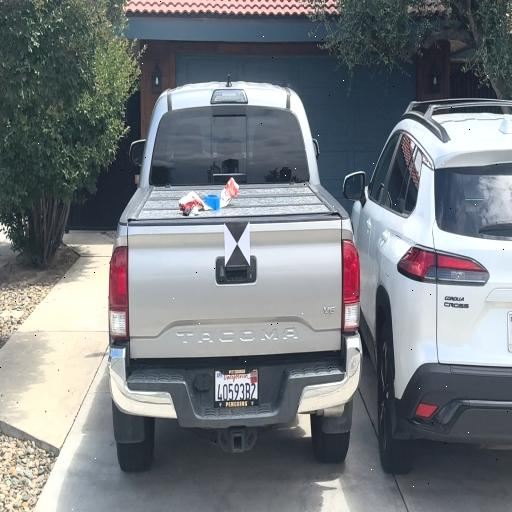target: (224, 223, 250, 265)
